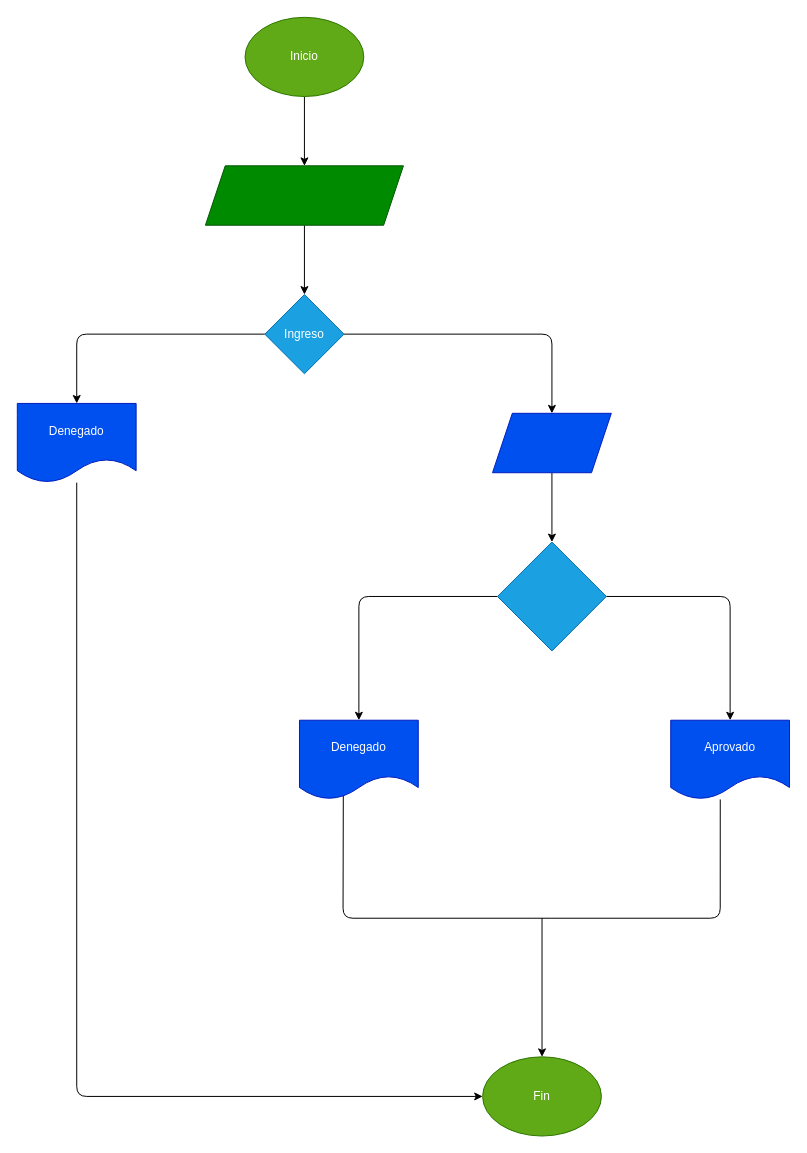
The diagram is 807 pixels wide and 1153 high, and some of its shapes have lost their labels. The centre of each missing label's shape, as x and y in pixels:
Ingresos > 945200: point (303, 195)
Otras deudas: point (551, 442)
Otrasa deudas ==1: point (551, 596)
